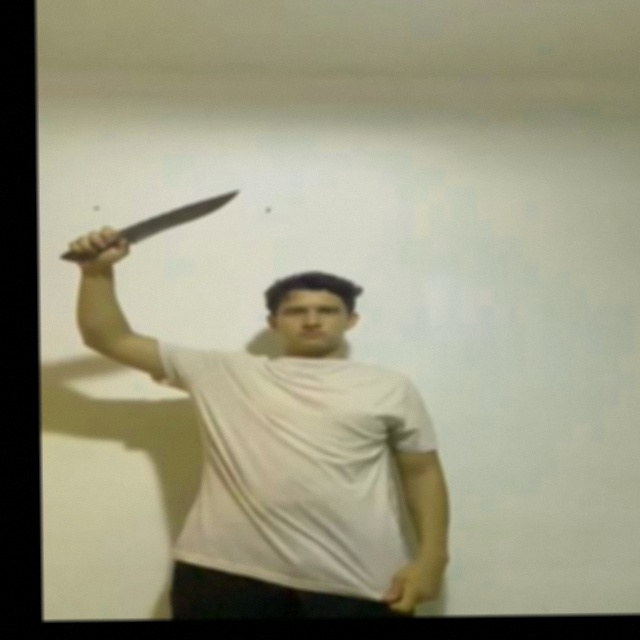Sharp-Object: (127, 189, 243, 237)
